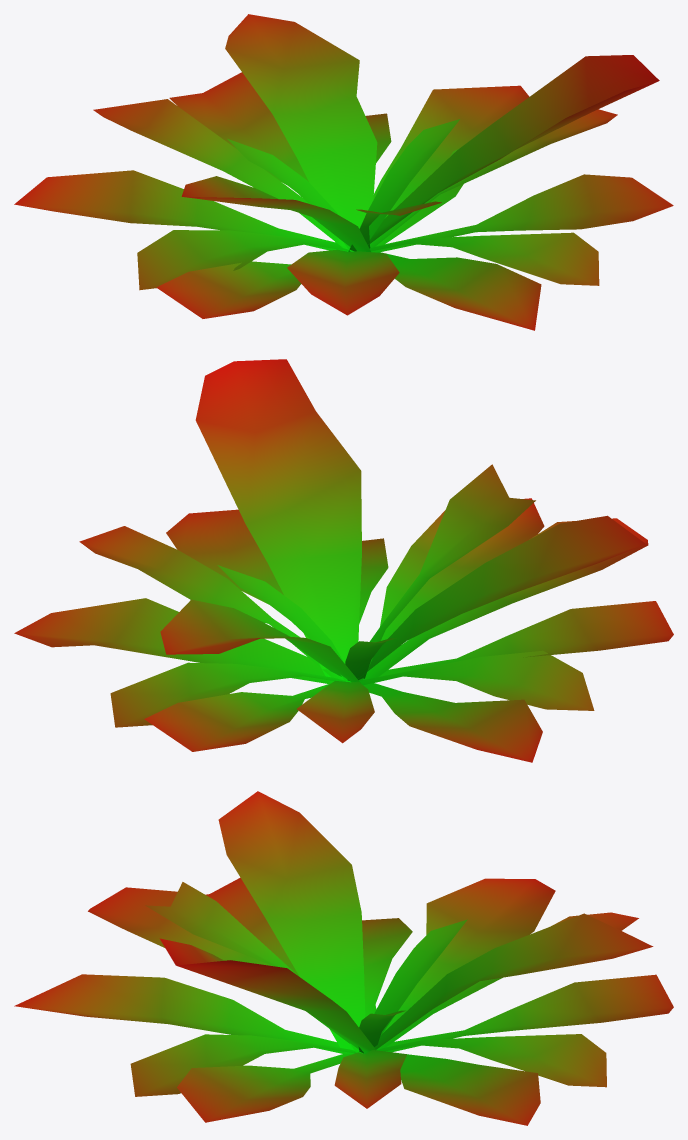
Rendered from Var25_LOD0.fbx.
3 views of the same model, one above another, from view 1: azimuth 30°, elevation 25°; view 2: azimuth 150°, elevation 25°; view 3: azimuth 270°, elevation 25° (orthographic). The views are drawn at different scales.
Parts seen in each view (by area): view 1: _flu6_Var25_LOD0; view 2: _flu6_Var25_LOD0; view 3: _flu6_Var25_LOD0.
Boxes of the visible parts, left/top/right/bottom form: _flu6_Var25_LOD0: left=14, top=14, right=673, bottom=330; _flu6_Var25_LOD0: left=14, top=359, right=673, bottom=762; _flu6_Var25_LOD0: left=14, top=791, right=673, bottom=1125.
Size of the model in its own units: 15.15 by 5.6 by 16.61.
